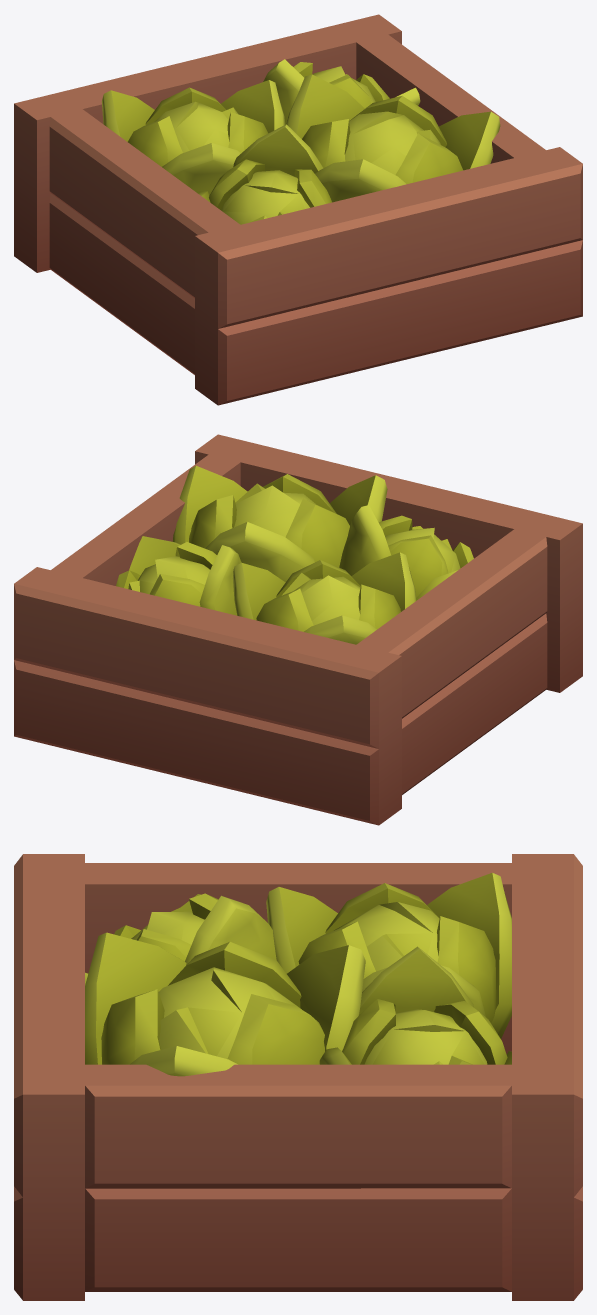
The model's file is Crate Lettuce.glb.
The picture shows the model from 3 angles, top to bottom: view 1: azimuth 30°, elevation 25°; view 2: azimuth 150°, elevation 25°; view 3: azimuth 270°, elevation 25°; orthographic projection. The views are drawn at different scales.
Parts seen in each view (by area): view 1: crate_lettuce; view 2: crate_lettuce; view 3: crate_lettuce.
Part boxes in pixels (bbox=[...]): crate_lettuce: bbox=[14, 14, 582, 405]; crate_lettuce: bbox=[14, 434, 582, 825]; crate_lettuce: bbox=[14, 854, 582, 1300].
Size of the model in its own units: 2 by 0.9981 by 2.
Materials: 1 (1 with a texture image).
